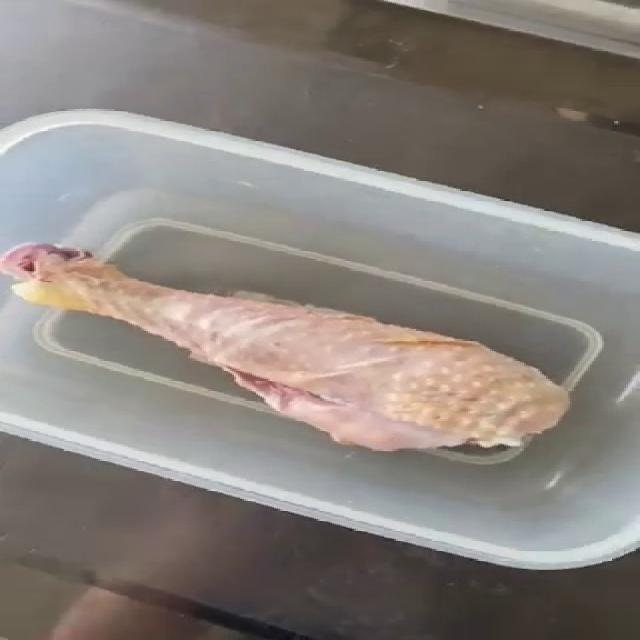chicken: (0, 241, 574, 458)
